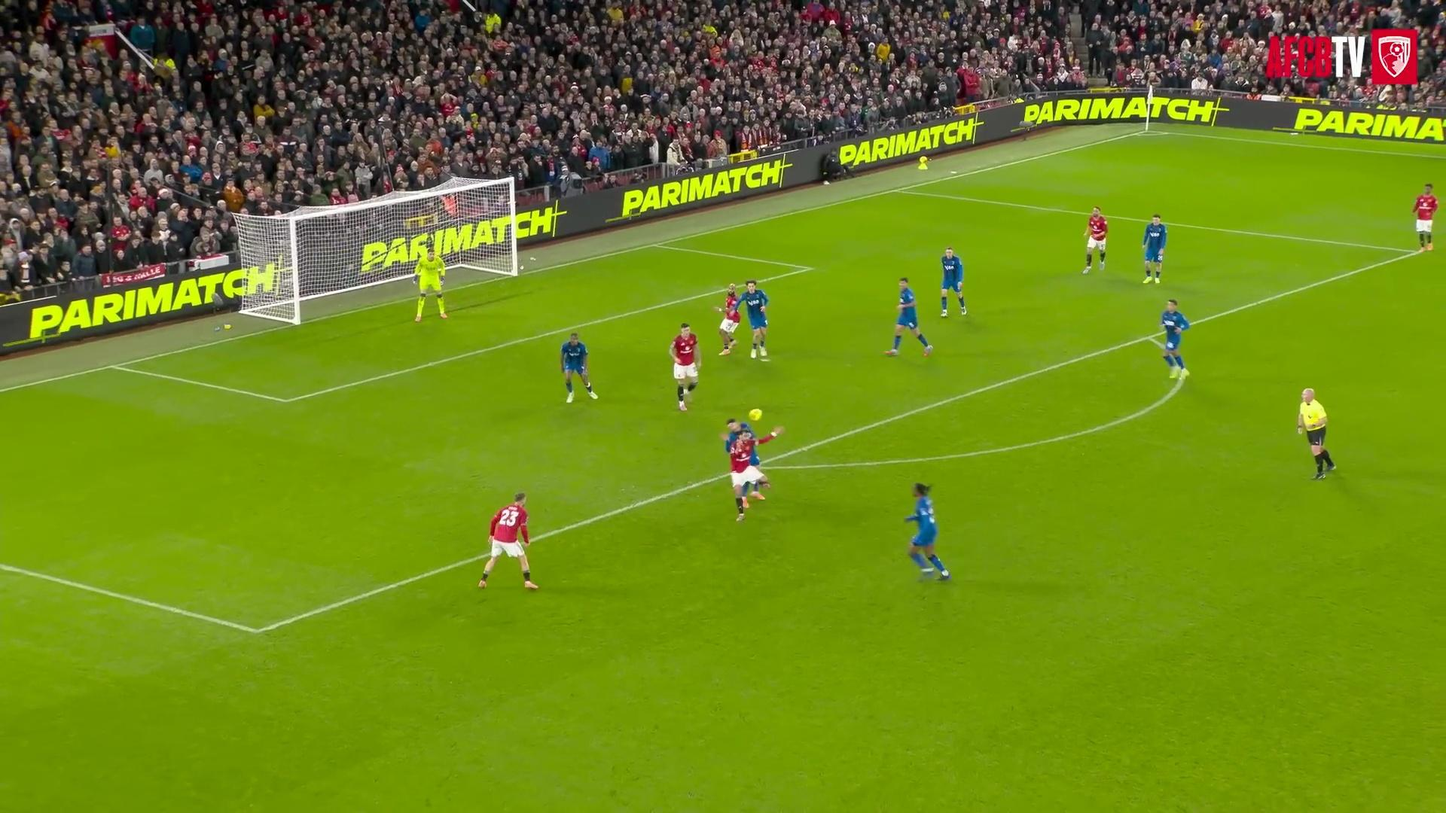football: (749, 408, 762, 420)
player: (478, 492, 537, 589), (729, 428, 782, 521), (905, 483, 950, 580), (885, 278, 932, 355), (560, 332, 596, 403), (670, 323, 698, 410), (414, 248, 447, 321), (1161, 300, 1189, 378), (740, 280, 768, 358), (715, 284, 740, 355), (941, 247, 966, 317), (1142, 214, 1167, 283), (1083, 206, 1107, 273), (1414, 184, 1437, 250), (724, 419, 752, 451)
referee: (1298, 388, 1335, 479)
